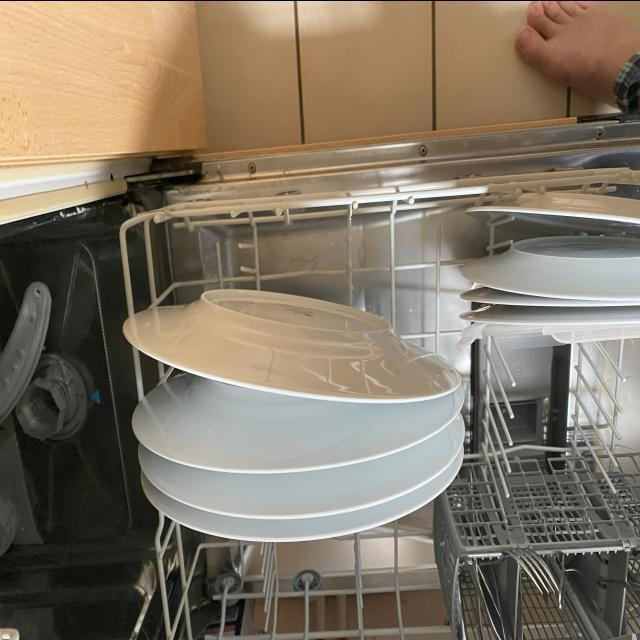clutery_bin: (469, 561, 640, 635)
empty_slot: (154, 215, 454, 292), (185, 537, 428, 629), (480, 351, 640, 482)
